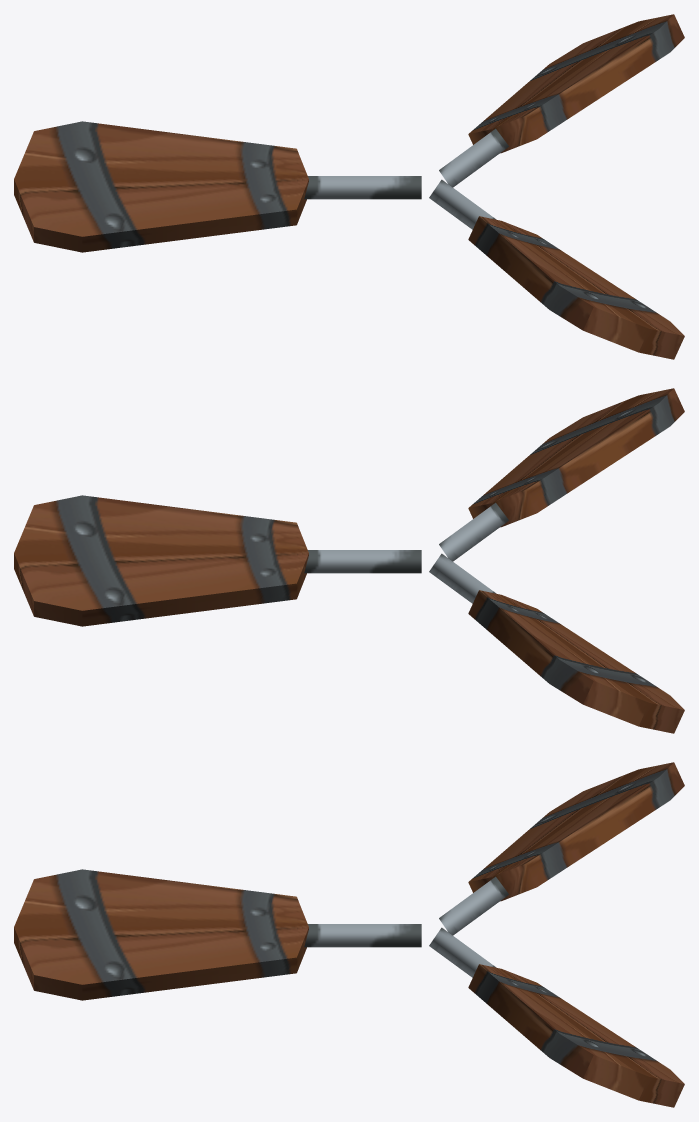
File: fuelTop_mobile.gltf
The picture shows the model from 3 angles, top to bottom: view 1: azimuth 30°, elevation 25°; view 2: azimuth 150°, elevation 25°; view 3: azimuth 270°, elevation 25°; orthographic projection.
Parts seen in each view (by area): view 1: rotor.blades.004; view 2: rotor.blades.004; view 3: rotor.blades.004.
Boxes of the visible parts, <box> form: rotor.blades.004: <box>14,14,684,359</box>; rotor.blades.004: <box>14,388,684,733</box>; rotor.blades.004: <box>14,762,684,1107</box>.
Bounding box in the file's own units: 0.8785 × 0.107 × 0.7842.
1 material, 1 textured.
